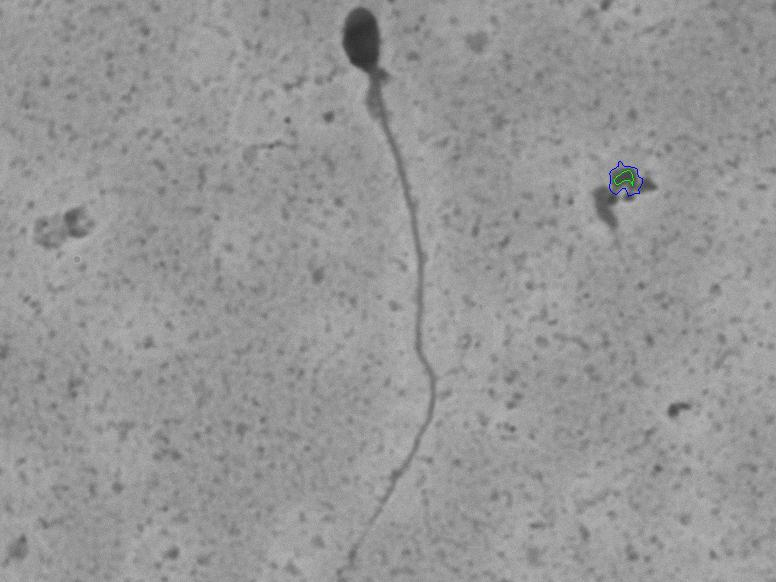Normal: (274, 2, 493, 552)
